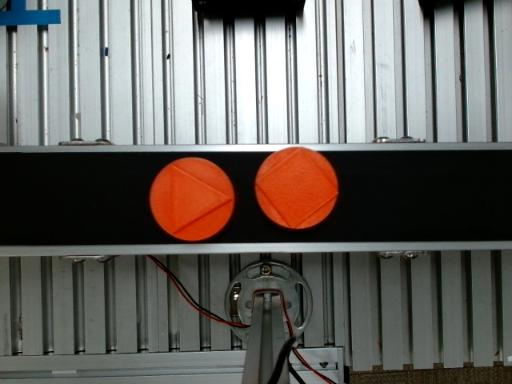Not_Square: (171, 163, 233, 235)
Orange_Waper: (150, 158, 235, 241), (254, 147, 339, 229)
Square: (255, 147, 341, 229)
